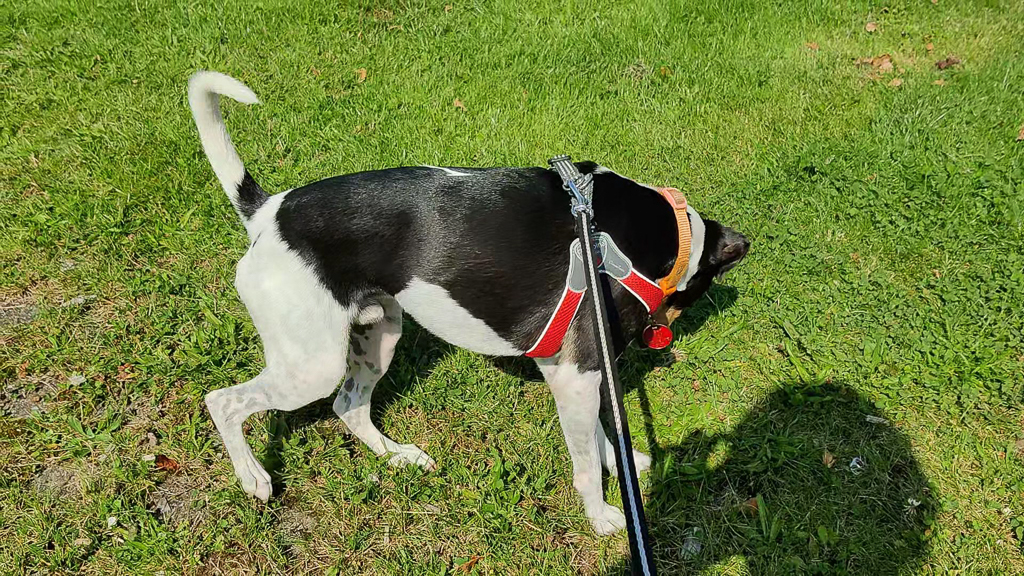Dog: (164, 54, 769, 546)
